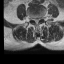CCS_normal: (35, 15, 37, 25)
LFS_normal: (39, 15, 42, 22)
LLS_normal: (37, 15, 39, 24)
RFS_normal: (31, 15, 33, 22)
RLS_normal: (33, 15, 35, 24)
